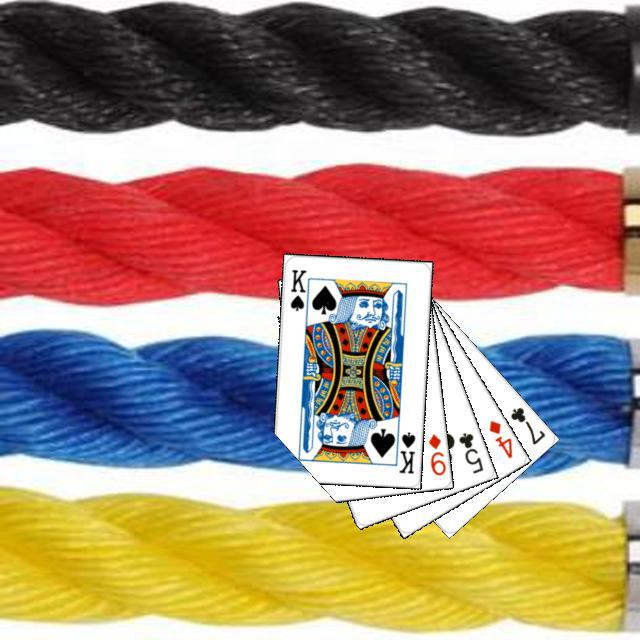4d: (484, 415, 514, 460)
5c: (454, 427, 485, 475)
7c: (505, 402, 547, 446)
9d: (424, 429, 447, 477)
Ks: (285, 265, 311, 317), (394, 427, 417, 475)
